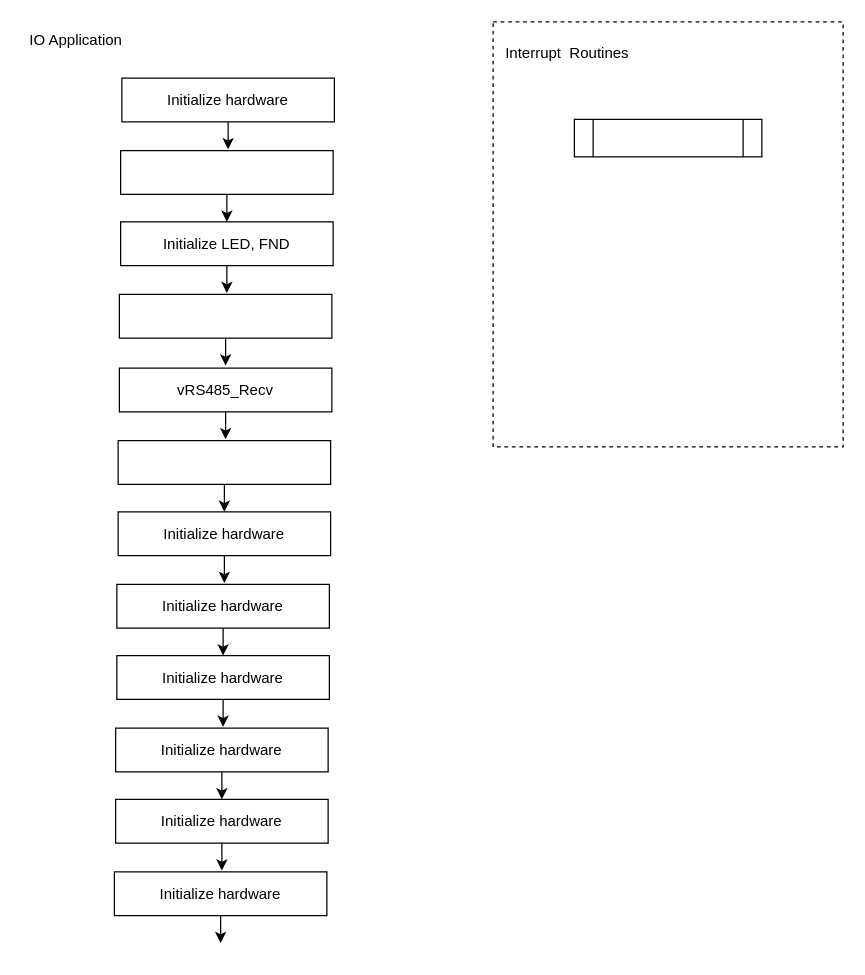
Some shapes in this 865 by 975 pixel diagram are drawn without their labels. Each missing label, with the box of its shape:
Initialize global variable: (119, 149, 333, 194)
vChannel_Master_Recv: (117, 439, 331, 484)
vCLI_Command: (118, 293, 332, 338)
